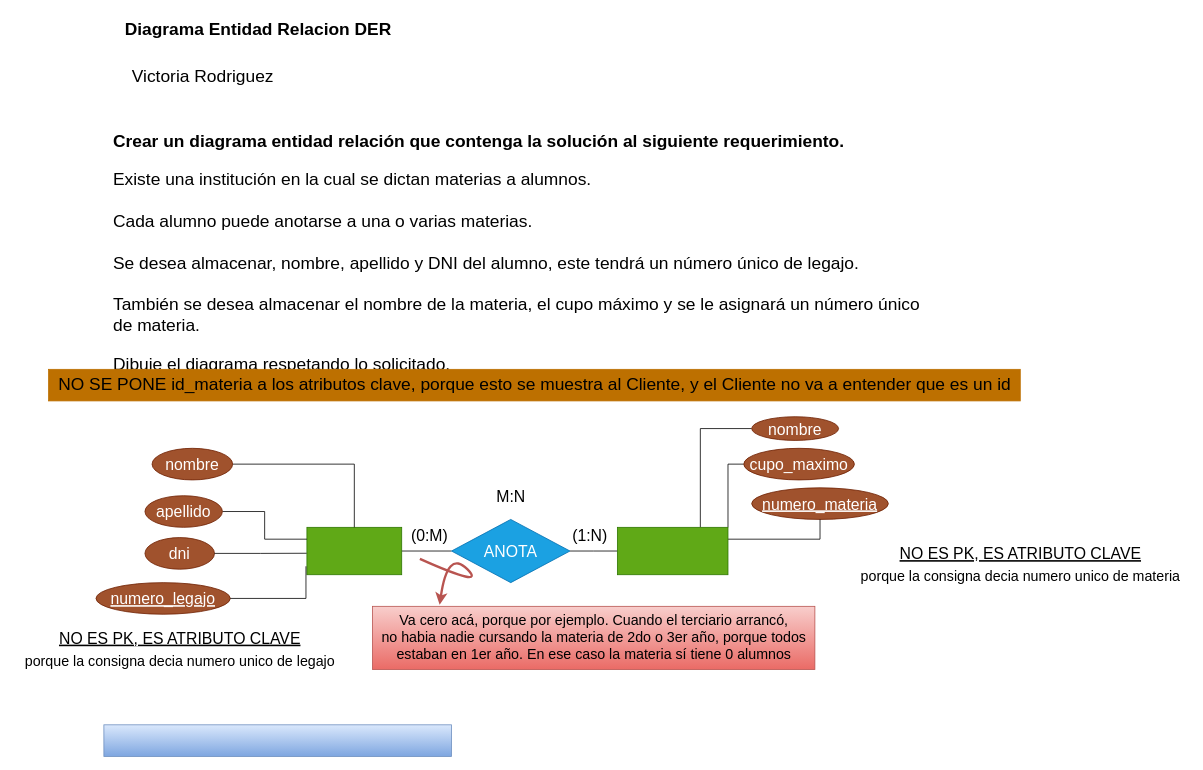
This 1203x770 diagram has some shape labels left out. Each missing label, with the box of its shape:
ALUMNO: (306, 527, 402, 575)
los rombos en un diagrama de tablas, son una tabla: (103, 724, 451, 756)
MATERIA: (617, 527, 728, 575)
